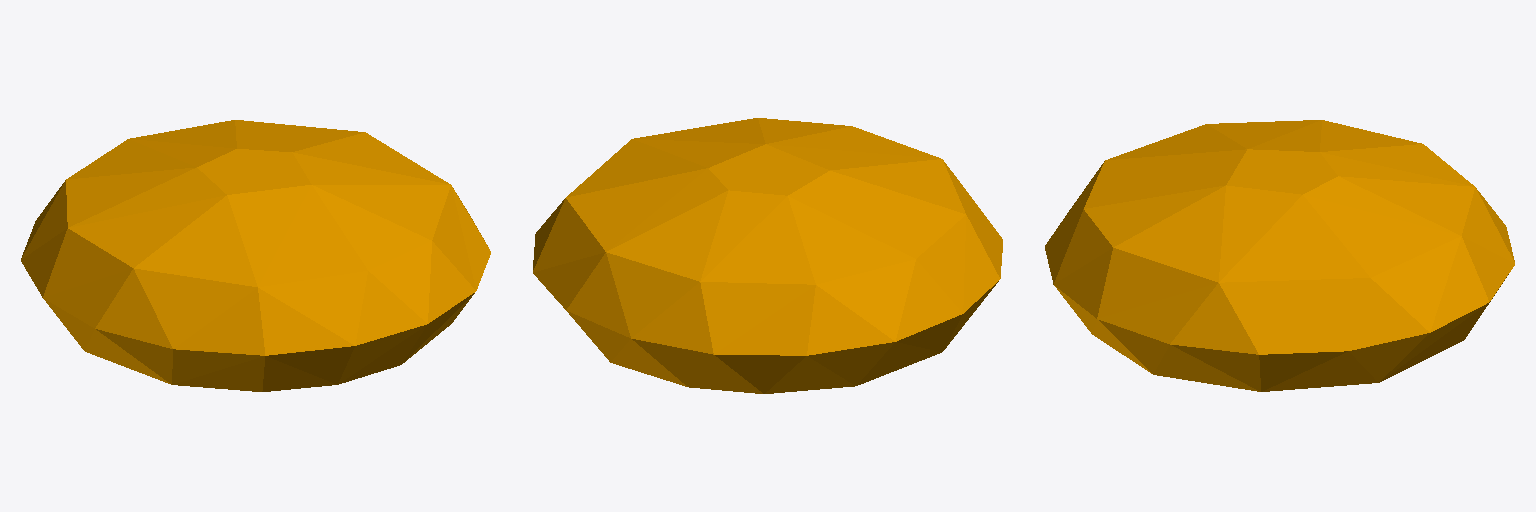
robot.urdf — bakedAfghanCookie:
<?xml version="1.0"?>
<robot name="bakedAfghanCookie">
  <link name="body">
    <inertial>
        <origin rpy="0 0 0" xyz="0 0 0"/>
        <mass value="0.03"/>
        <inertia ixx="4.4e-5" ixy="0" ixz="0" iyy="0" iyz="0" izz="4.4e-5"/>
    </inertial>
    <visual>
      <geometry>
        <mesh filename="bakedAfghanCookies.obj"/>
      </geometry>
    </visual>
    <collision>
      <geometry>
        <mesh filename="bakedAfghanCookies.obj"/>
      </geometry>
      <surface>
           <bounce restitution_coefficient = "0.1"/>
      </surface>
    </collision>
  </link>
</robot>

--- Render facts (derived) ---
3 views of the same robot in one strip: view 1: azimuth 30°, elevation 25°; view 2: azimuth 150°, elevation 25°; view 3: azimuth 270°, elevation 25° (orthographic).
Robot: bakedAfghanCookie — 1 links, 0 joints (none); root link body; default pose: every joint at zero.
Visible links, largest first — view 1: body; view 2: body; view 3: body.
Boxes of the visible links, x1,y1,x2,y2 form: body: [21, 120, 490, 391]; body: [533, 118, 1002, 393]; body: [1045, 120, 1514, 391].
Size in the robot's own frame: 0.0485 by 0.0485 by 0.0192 metres.
1 mesh visuals loaded from 1 distinct referenced files (1 OBJ).
